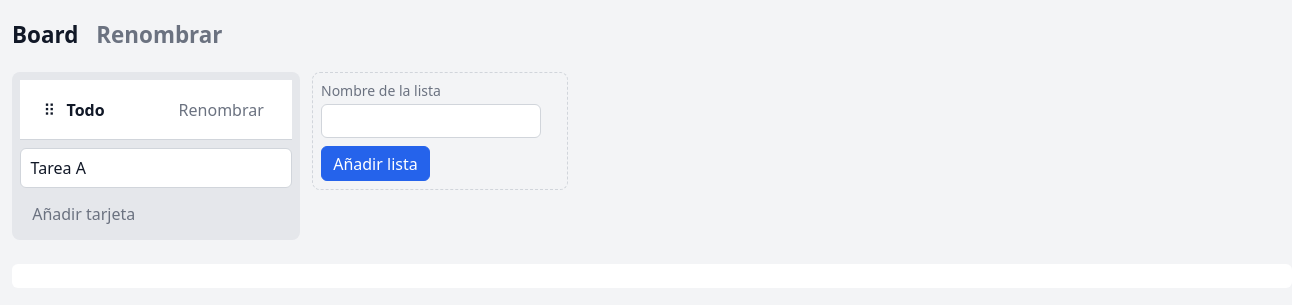
Test case: BoardView › crea una lista con el formulario inline
The width and height of the screenshot is (1292, 305).
Type "Doing" into the field labelled "Nombre de la lista". click: x=431, y=121
box: [321, 104, 541, 138]
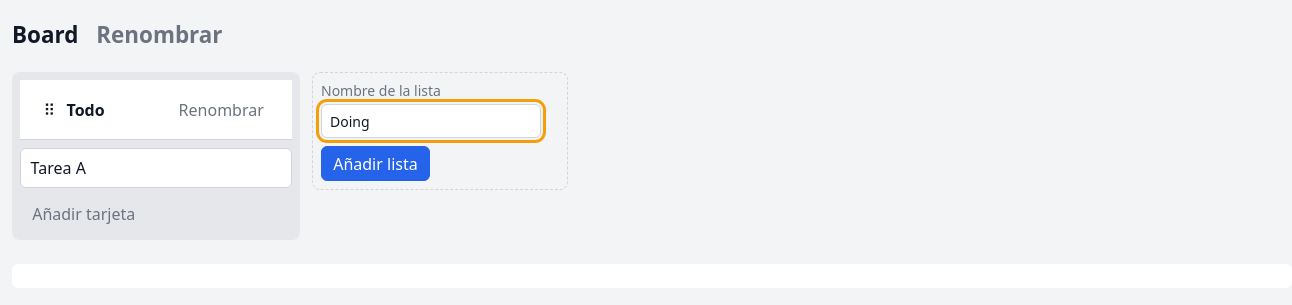
Click the button "Añadir lista". click: x=375, y=164
box: [321, 146, 430, 181]
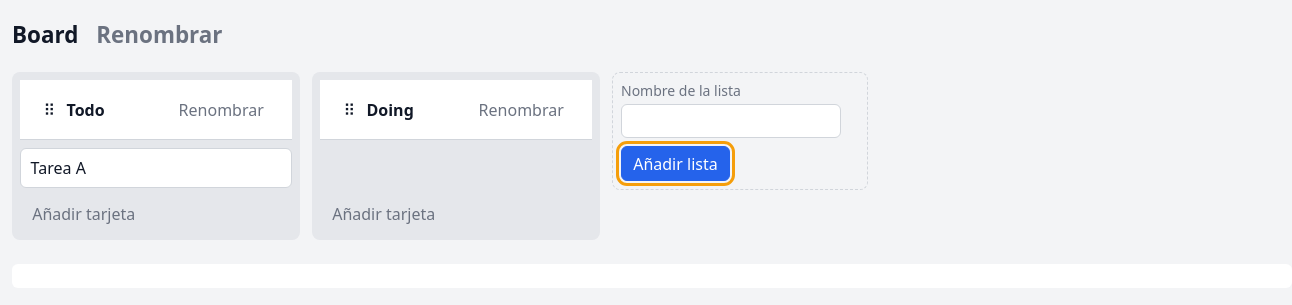
Result: the heading "Doing" is shown at [366, 99, 414, 121]
